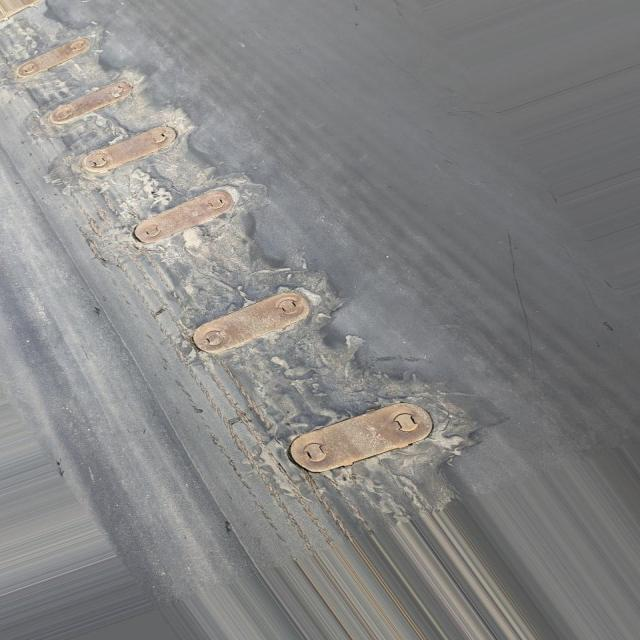patch work: (0, 0, 476, 543)
